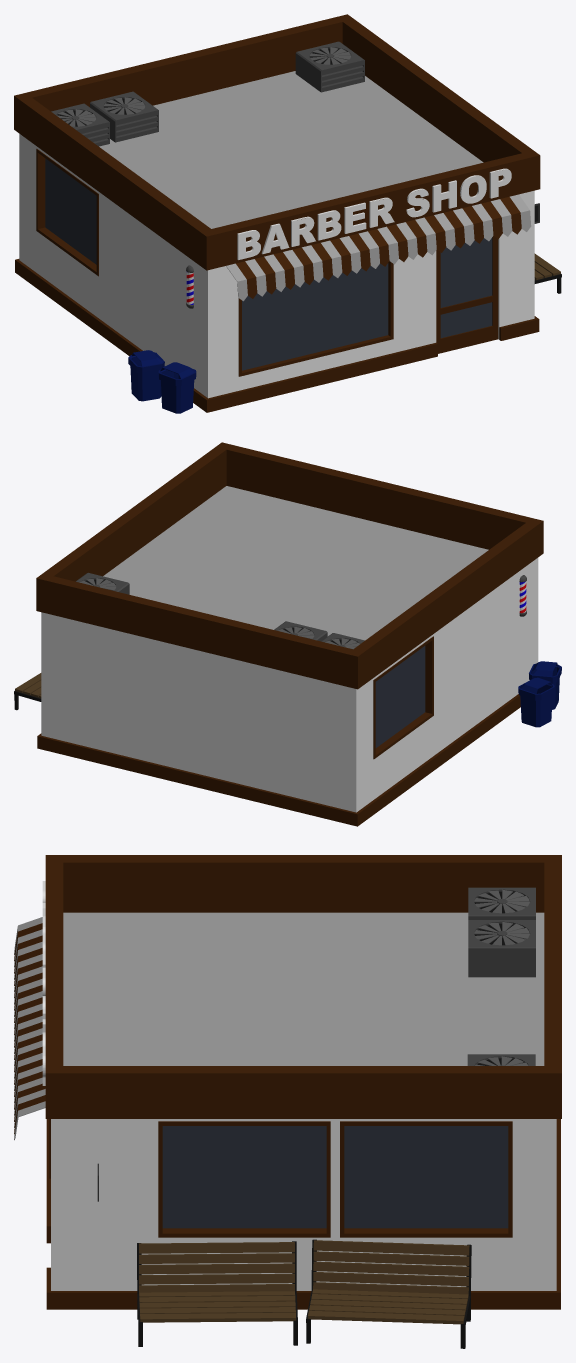
File: barber.glb
3 views of the same model, one above another, from view 1: azimuth 30°, elevation 25°; view 2: azimuth 150°, elevation 25°; view 3: azimuth 270°, elevation 25° (orthographic). The views are drawn at different scales.
Parts seen in each view (by area): view 1: Barber Shop; view 2: Barber Shop; view 3: Barber Shop.
Part boxes in pixels (box(x1,y1,x2,y2)): Barber Shop: box(14, 14, 561, 413); Barber Shop: box(14, 442, 561, 826); Barber Shop: box(14, 855, 561, 1348).
Bounding box in the file's own units: 8.49 × 3.31 × 6.93.
